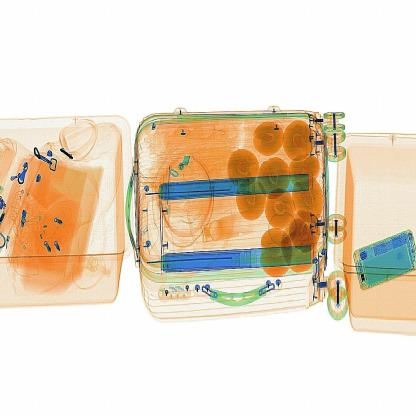pliers: (156, 156, 179, 235)
